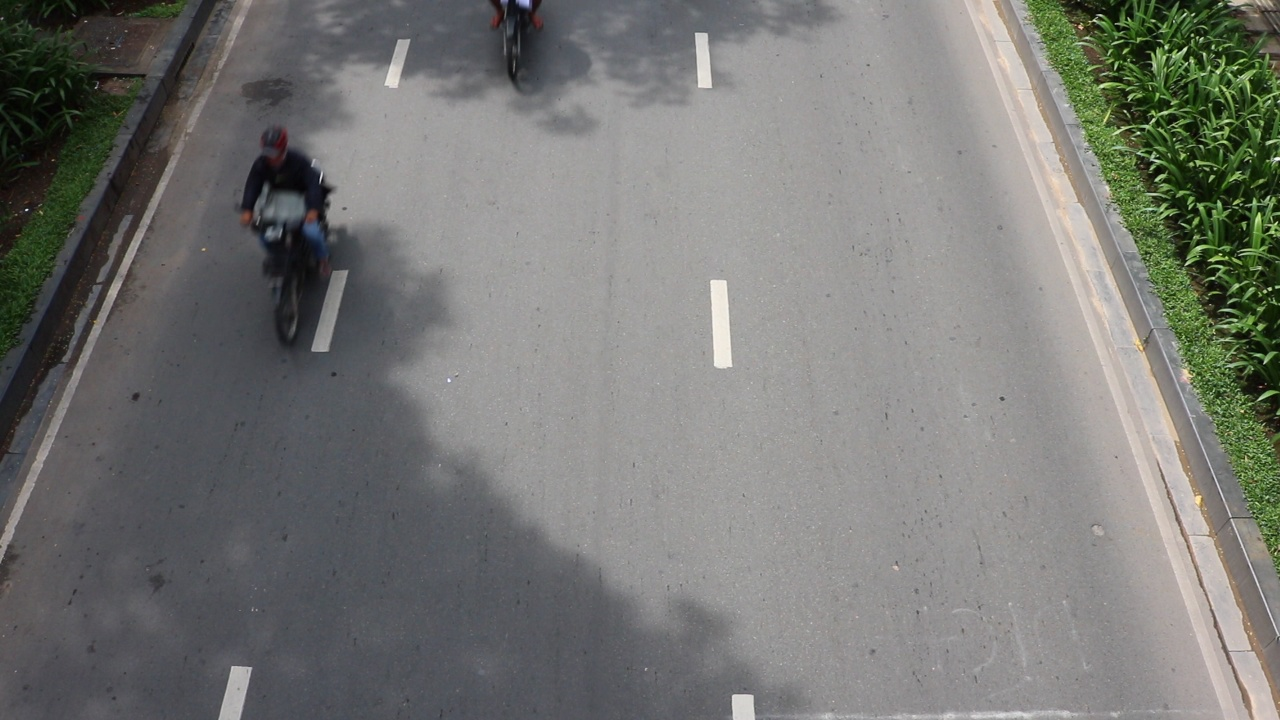motorcycle: (241, 214, 329, 352)
